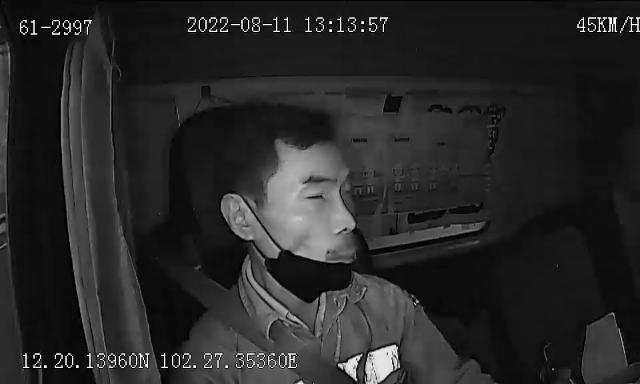SafeDriving: (418, 96, 478, 122), (418, 96, 460, 122)
Seatbelt: (174, 262, 358, 384)
